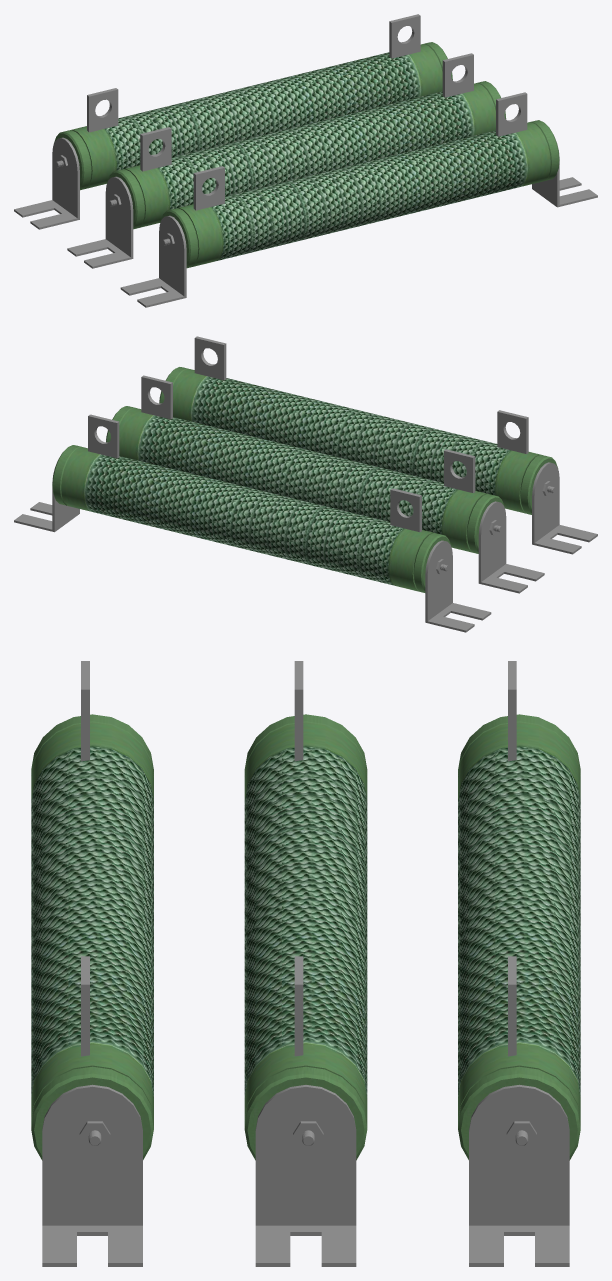
File: DianZu.FBX
3 renders of one model, top to bottom at view 1: azimuth 30°, elevation 25°; view 2: azimuth 150°, elevation 25°; view 3: azimuth 270°, elevation 25°, orthographic. The views are drawn at different scales.
Visible parts, largest first — view 1: ZD_dianzu06, ZD_dianzu013, ZD_dianzu007, ZD_dianzu012, ZD_dianzu05, ZD_dianzu018, ZD_dianzu01, ZD_dianzu03, ZD_dianzu009, ZD_dianzu017, ZD_dianzu02, ZD_dianzu011 (+4 smaller); view 2: ZD_dianzu013, ZD_dianzu007, ZD_dianzu06, ZD_dianzu012, ZD_dianzu018, ZD_dianzu05, ZD_dianzu014, ZD_dianzu016, ZD_dianzu02, ZD_dianzu015, ZD_dianzu009, ZD_dianzu011 (+4 smaller); view 3: ZD_dianzu007, ZD_dianzu013, ZD_dianzu06, ZD_dianzu010, ZD_dianzu03, ZD_dianzu016, ZD_dianzu008, ZD_dianzu014, ZD_dianzu01, ZD_dianzu009, ZD_dianzu011, ZD_dianzu02 (+3 smaller).
Boxes of the visible parts, box(x1,y1,x2,y2) form: ZD_dianzu06: box(177, 122, 550, 266); ZD_dianzu013: box(68, 44, 442, 188); ZD_dianzu007: box(122, 83, 495, 227); ZD_dianzu012: box(67, 176, 133, 268); ZD_dianzu05: box(120, 215, 186, 307); ZD_dianzu018: box(14, 137, 79, 229); ZD_dianzu01: box(160, 120, 559, 268); ZD_dianzu03: box(532, 136, 597, 207); ZD_dianzu009: box(442, 53, 473, 97); ZD_dianzu017: box(87, 88, 118, 132); ZD_dianzu02: box(496, 92, 527, 136); ZD_dianzu011: box(140, 127, 171, 171); ZD_dianzu013: box(61, 447, 435, 591); ZD_dianzu007: box(119, 408, 487, 552); ZD_dianzu06: box(173, 369, 542, 513); ZD_dianzu012: box(478, 501, 544, 593); ZD_dianzu018: box(425, 540, 491, 632); ZD_dianzu05: box(532, 462, 597, 554); ZD_dianzu014: box(52, 445, 451, 592); ZD_dianzu016: box(14, 460, 79, 532); ZD_dianzu02: box(194, 336, 226, 380); ZD_dianzu015: box(88, 414, 119, 458); ZD_dianzu009: box(141, 375, 172, 419); ZD_dianzu011: box(444, 449, 475, 492); ZD_dianzu007: box(244, 722, 367, 1120); ZD_dianzu013: box(458, 722, 580, 1120); ZD_dianzu06: box(31, 722, 153, 1120); ZD_dianzu010: box(255, 1085, 356, 1266); ZD_dianzu03: box(42, 1084, 142, 1266); ZD_dianzu016: box(469, 1084, 569, 1266); ZD_dianzu008: box(244, 714, 367, 1160); ZD_dianzu014: box(458, 714, 580, 1160); ZD_dianzu01: box(31, 714, 153, 1160); ZD_dianzu009: box(294, 956, 303, 1056); ZD_dianzu011: box(294, 661, 303, 761); ZD_dianzu02: box(81, 956, 89, 1056).
Bounding box in the file's own units: 18.24 × 4.3 × 9.6.
Materials: 2 (1 with a texture image).
